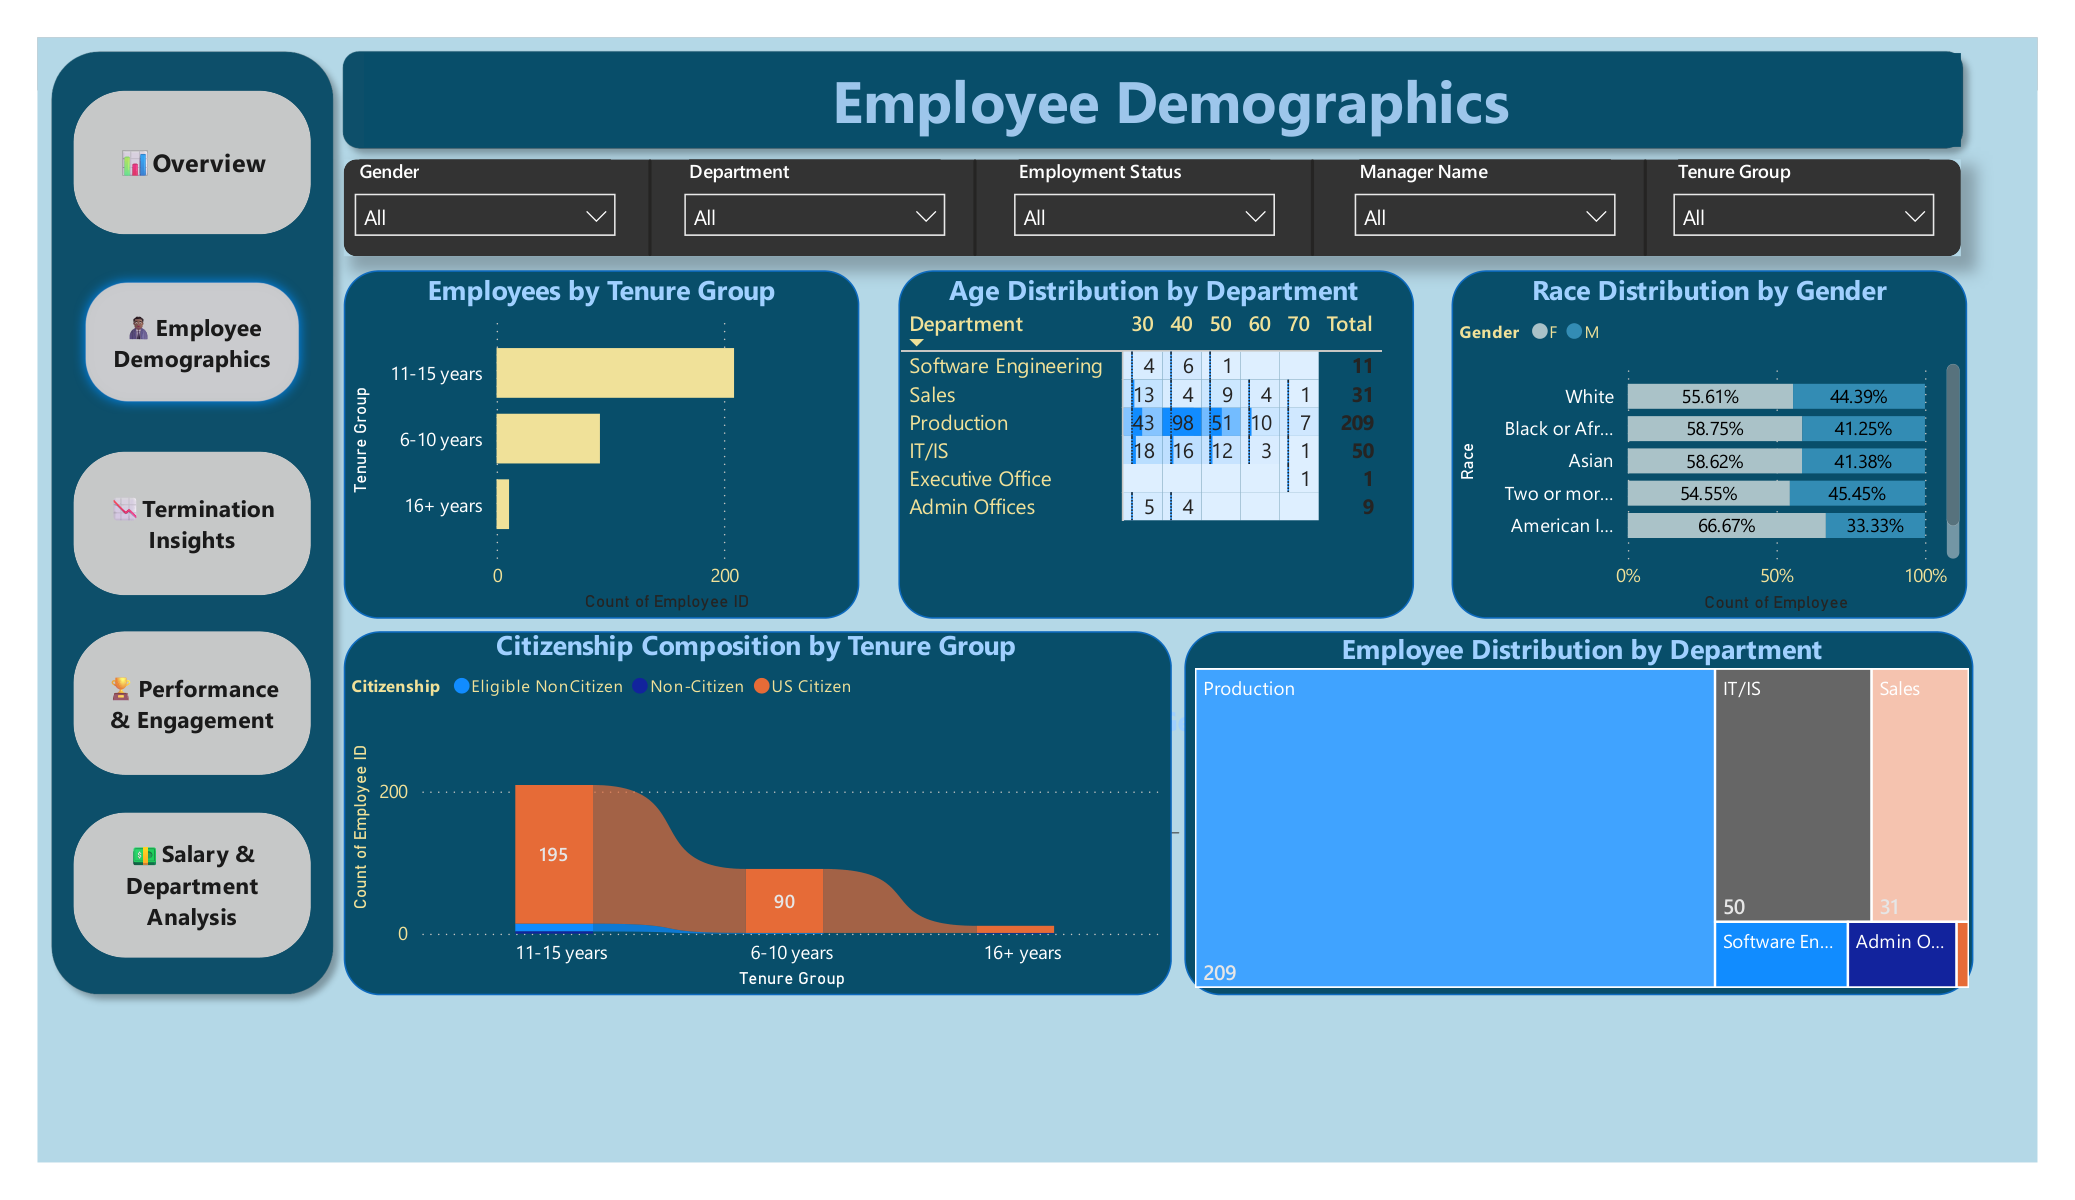

The dashboard page shown, as its layout file describes it:
{"tool":"powerbi","page":{"name":" Employee Demographics","canvas":[1280,720],"ordinal":1},"visuals":[{"type":"shape","box":[0,0,198,621.4],"z":0},{"type":"actionButton","box":[23.1,33.7,152,91.8],"z":1000},{"type":"actionButton","box":[23.1,149.2,152,91.8],"z":2000},{"type":"actionButton","box":[23.1,264.8,152,91.8],"z":3000},{"type":"actionButton","box":[23.1,380.4,152,91.8],"z":4000},{"type":"actionButton","box":[23.1,495.9,152,92.9],"z":5000},{"type":"shape","box":[187,0,1054,80],"z":6000},{"type":"textbox","box":[209,10,1022,60],"z":7000},{"type":"shape","box":[196,78,1035,62],"z":8000},{"type":"slicer","fields":{"Values":["HRDataset_v14.Gender"]},"box":[198,78,177,64],"z":9000},{"type":"shape","box":[365,78,54,62],"z":10000},{"type":"slicer","fields":{"Values":["HRDataset_v14.Department"]},"box":[409,78,177,65],"z":11000},{"type":"slicer","fields":{"Values":["HRDataset_v14.Employment Status"]},"box":[620,78,177,64],"z":12000},{"type":"slicer","fields":{"Values":["HRDataset_v14.Manager Name"]},"box":[838,78,177,59],"z":13000},{"type":"slicer","fields":{"Values":["HRDataset_v14.Tenure Group"]},"box":[1042,78,177,62],"z":14000},{"type":"shape","box":[573,78,54,62],"z":15000},{"type":"shape","box":[789,78,54,62],"z":16000},{"type":"shape","box":[196,149,330,223],"z":17000},{"type":"shape","box":[1002,78,54,62],"z":18000},{"type":"shape","box":[550.5,149,330,223],"z":19000},{"type":"shape","box":[905,149,330,223],"z":20000},{"type":"donutChart","title":"Count of Gender","fields":{"Y":["CountNonNull(HRDataset_v14.Gender)"],"Category":["HRDataset_v14.Marital Status"]},"box":[548,426,322,162],"z":21000},{"type":"shape","box":[196,380,530,233],"z":22000},{"type":"shape","box":[734,380,505,233],"z":23000},{"type":"clusteredBarChart","title":"Employees by Tenure Group","fields":{"Category":["HRDataset_v14.Tenure Group"],"Y":["CountNonNull(HRDataset_v14.Employee ID)"]},"box":[196,150,330,222],"z":24000},{"type":"treemap","title":"Employee Distribution by Department","fields":{"Group":["HRDataset_v14.Department"],"Values":["CountNonNull(HRDataset_v14.Employee ID)"]},"box":[736,380,505,233],"z":25000},{"type":"hundredPercentStackedBarChart","title":"Race Distribution by Gender","fields":{"Category":["HRDataset_v14.Race"],"Y":["CountNonNull(HRDataset_v14.Employee ID)"],"Series":["HRDataset_v14.Gender"]},"box":[905,150,330,222],"z":26000},{"type":"ribbonChart","title":"Citizenship Composition by Tenure Group","fields":{"Series":["HRDataset_v14.Citizenship"],"Y":["CountNonNull(HRDataset_v14.Employee ID)"],"Category":["HRDataset_v14.Tenure Group"]},"box":[196,377,528,236],"z":27000},{"type":"pivotTable","title":"Age Distribution by Department","fields":{"Rows":["HRDataset_v14.Department"],"Values":["CountNonNull(HRDataset_v14.Employee ID)"],"Columns":["HRDataset_v14.Age (bins)"]},"box":[548,150,333,222],"z":28000}]}

Visuals, with their boxes on the page's 1280x720 design canvas (x1, y1, x2, y2). These are canvas units, not pixel positions in the 2075x1200 screenshot, which may show the page scaled, cropped or inside an application window:
shape: 0 0 198 621
actionButton: 23 34 175 126
actionButton: 23 149 175 241
actionButton: 23 265 175 357
actionButton: 23 380 175 472
actionButton: 23 496 175 589
shape: 187 0 1241 80
textbox: 209 10 1231 70
shape: 196 78 1231 140
slicer - HRDataset_v14.Gender: 198 78 375 142
shape: 365 78 419 140
slicer - HRDataset_v14.Department: 409 78 586 143
slicer - HRDataset_v14.Employment Status: 620 78 797 142
slicer - HRDataset_v14.Manager Name: 838 78 1015 137
slicer - HRDataset_v14.Tenure Group: 1042 78 1219 140
shape: 573 78 627 140
shape: 789 78 843 140
shape: 196 149 526 372
shape: 1002 78 1056 140
shape: 550 149 880 372
shape: 905 149 1235 372
"Count of Gender" donutChart: 548 426 870 588
shape: 196 380 726 613
shape: 734 380 1239 613
"Employees by Tenure Group" clusteredBarChart: 196 150 526 372
"Employee Distribution by Department" treemap: 736 380 1241 613
"Race Distribution by Gender" hundredPercentStackedBarChart: 905 150 1235 372
"Citizenship Composition by Tenure Group" ribbonChart: 196 377 724 613
"Age Distribution by Department" pivotTable: 548 150 881 372
